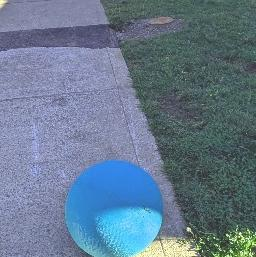algae: (61, 156, 161, 257)
